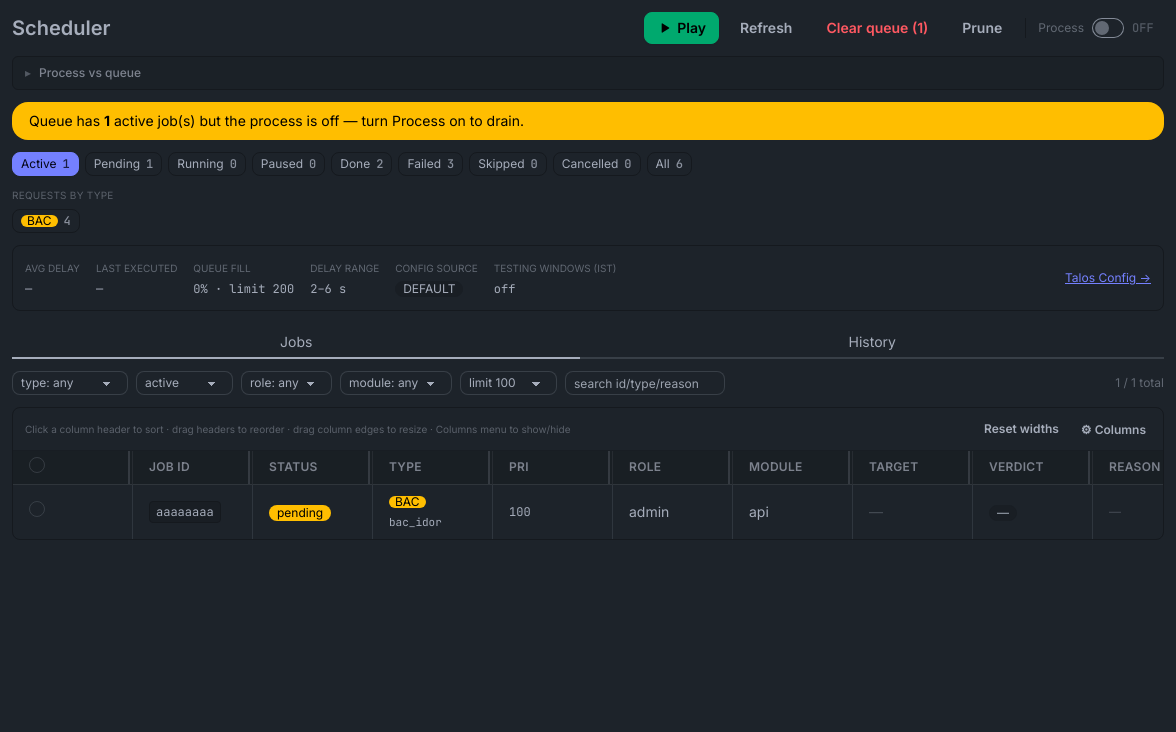
Scheduler page filters › applies status chips without resetting to failed
Expected: the heading "Scheduler" is shown, [12, 14, 110, 42]
What coordinates should you click on to do the following:
click the button "done 2"
I would click on:
 (362, 164)
Its box is [331, 152, 392, 176].
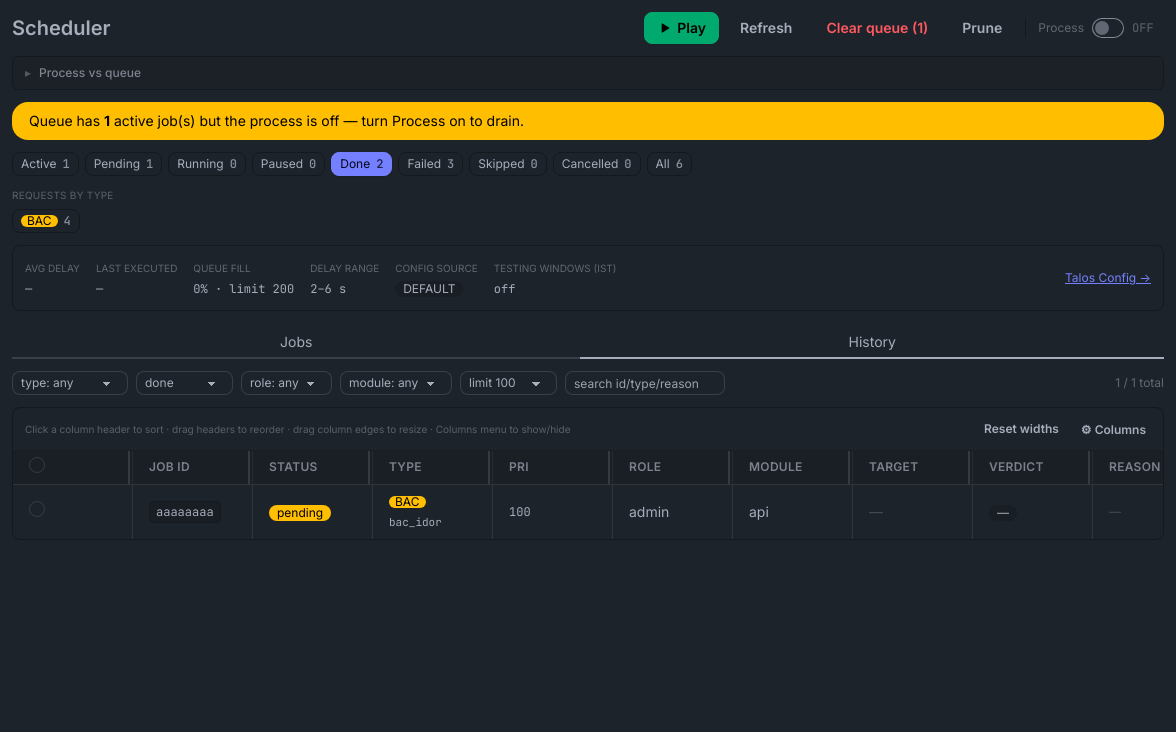
Now the 2nd dropdown showing "done" shows "done", box [136, 371, 233, 395]
